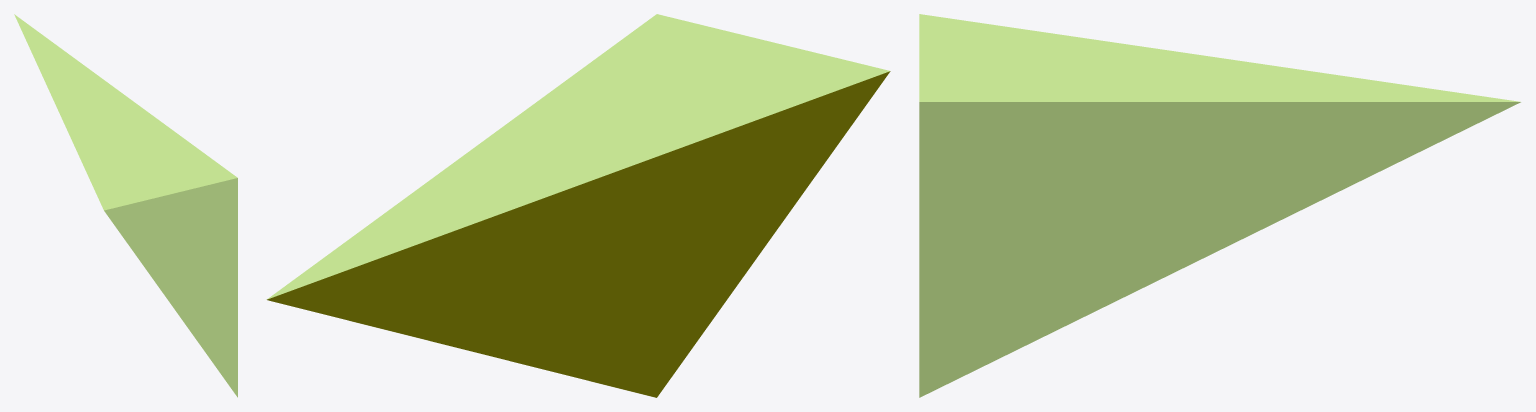
The model's file is cbShard5.fbx.
3 views of the same model, side by side, from view 1: azimuth 30°, elevation 25°; view 2: azimuth 150°, elevation 25°; view 3: azimuth 270°, elevation 25° (orthographic). The views are drawn at different scales.
Parts seen in each view (by area): view 1: shard24; view 2: shard24; view 3: shard24.
Boxes of the visible parts, x1,y1,x2,y2 form: shard24: (14,14,237,397); shard24: (266,14,890,397); shard24: (919,14,1520,397).
Bounding box in the file's own units: 0.000287 × 0.00045 × 0.000829.
2 materials, 1 textured.
